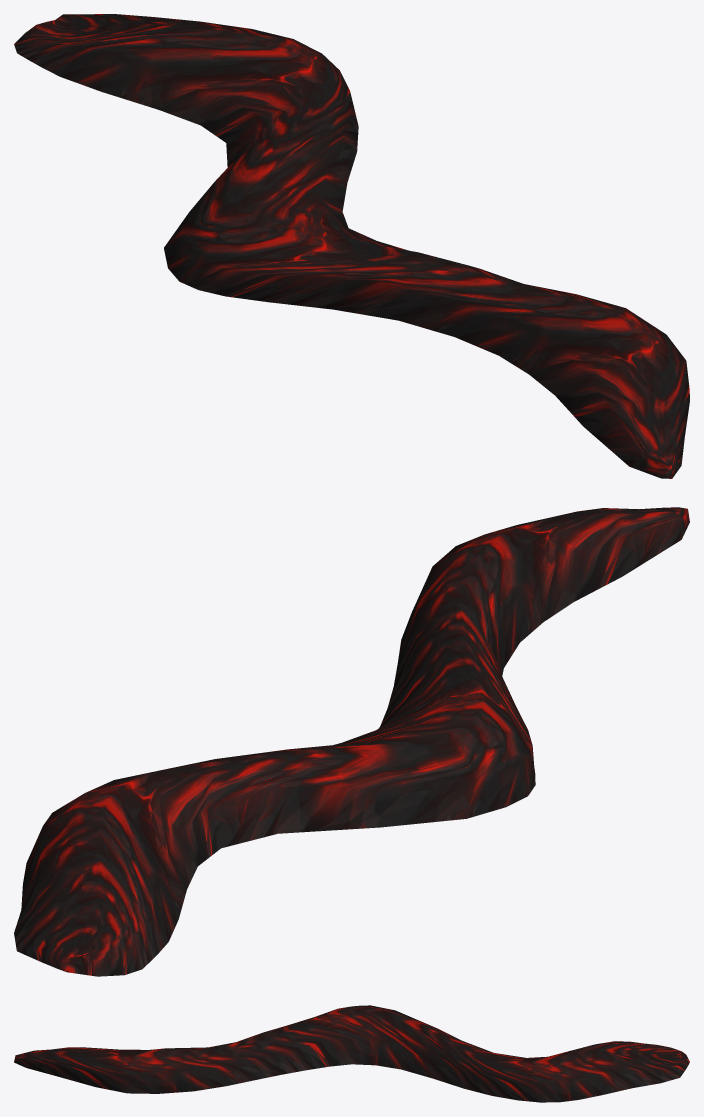
Rendered from SM_Env_Lava_River_02.fbx.
3 renders of one model, top to bottom at view 1: azimuth 30°, elevation 25°; view 2: azimuth 150°, elevation 25°; view 3: azimuth 270°, elevation 25°, orthographic. The views are drawn at different scales.
Visible parts, largest first — view 1: SM_Env_Lava_River_02; view 2: SM_Env_Lava_River_02; view 3: SM_Env_Lava_River_02.
Part boxes in pixels (x1=…): SM_Env_Lava_River_02: x1=14, y1=14, x2=689, y2=478; SM_Env_Lava_River_02: x1=14, y1=507, x2=689, y2=976; SM_Env_Lava_River_02: x1=14, y1=1005, x2=689, y2=1102.
Size of the model in its own units: 1088 by 171 by 3677.
